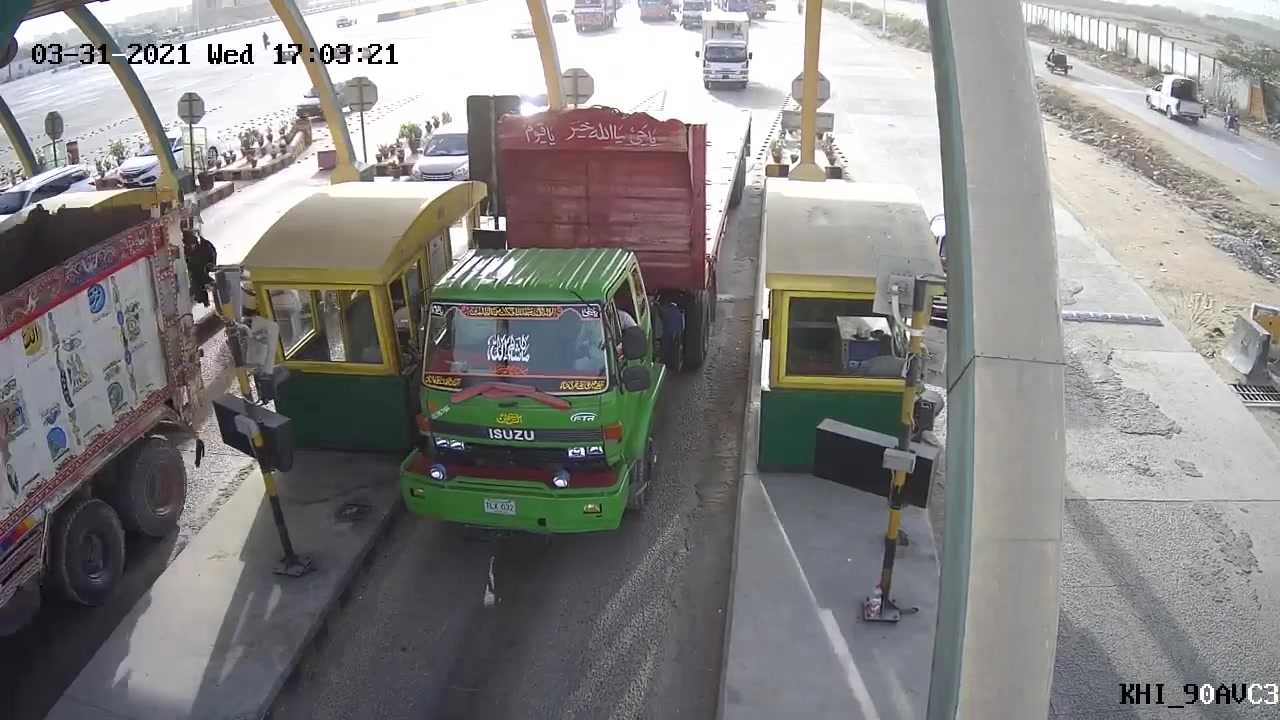F6: (396, 79, 757, 553)
